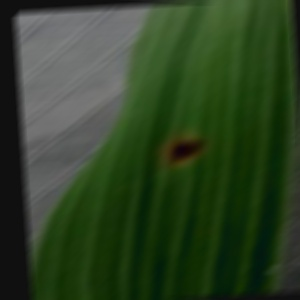Bacterial_Leaf_Blight: (160, 131, 213, 167)
